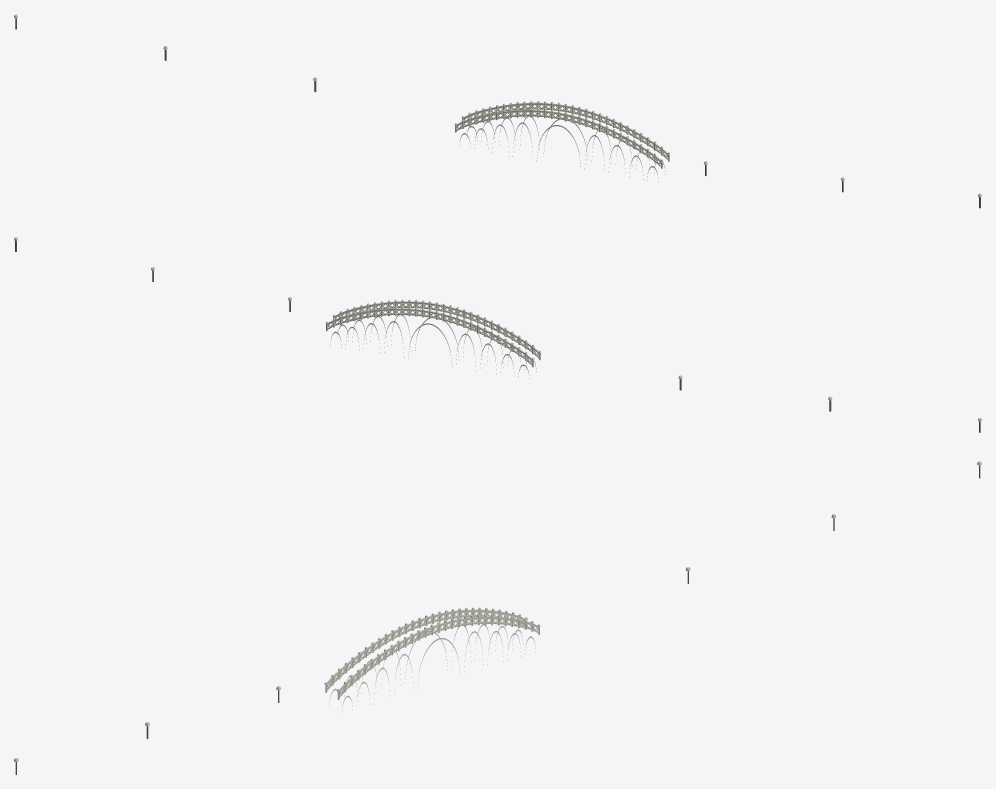
Rendered from landmark-nanhu.glb.
3 views of the same model, one above another, from view 1: azimuth 30°, elevation 25°; view 2: azimuth 210°, elevation 25°; view 3: azimuth 270°, elevation 25° (orthographic). The views are drawn at different scales.
Parts seen in each view (by area): view 1: Landmark_nanhu; view 2: Landmark_nanhu; view 3: Landmark_nanhu.
Part boxes in pixels (left/top/right/bottom): Landmark_nanhu: left=14, top=14, right=981, bottom=208; Landmark_nanhu: left=14, top=237, right=981, bottom=432; Landmark_nanhu: left=14, top=461, right=981, bottom=774.
Bounding box in the file's own units: 1.77 × 0.1705 × 2.41.
